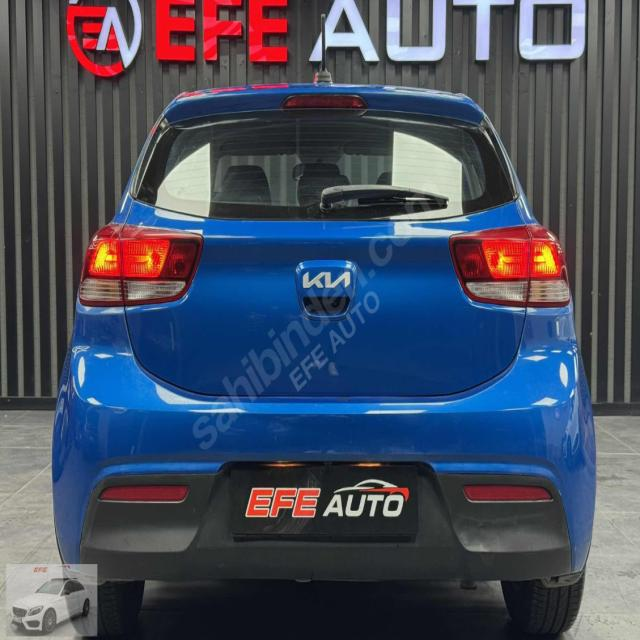kia: (300, 264, 356, 298)
